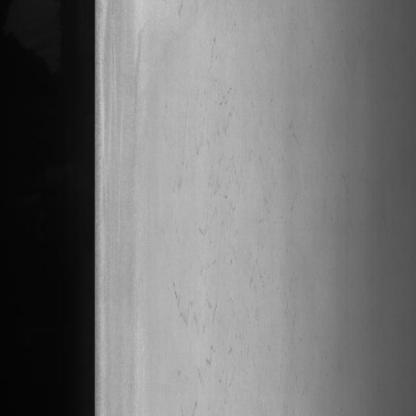silk_spot: (162, 41, 250, 388)
